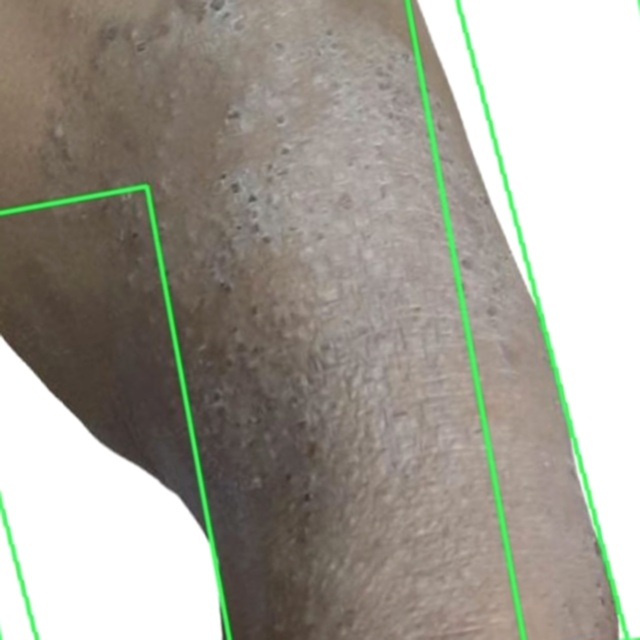Contact Dermatitis: (0, 0, 626, 639), (407, 0, 639, 639), (0, 186, 229, 639)
